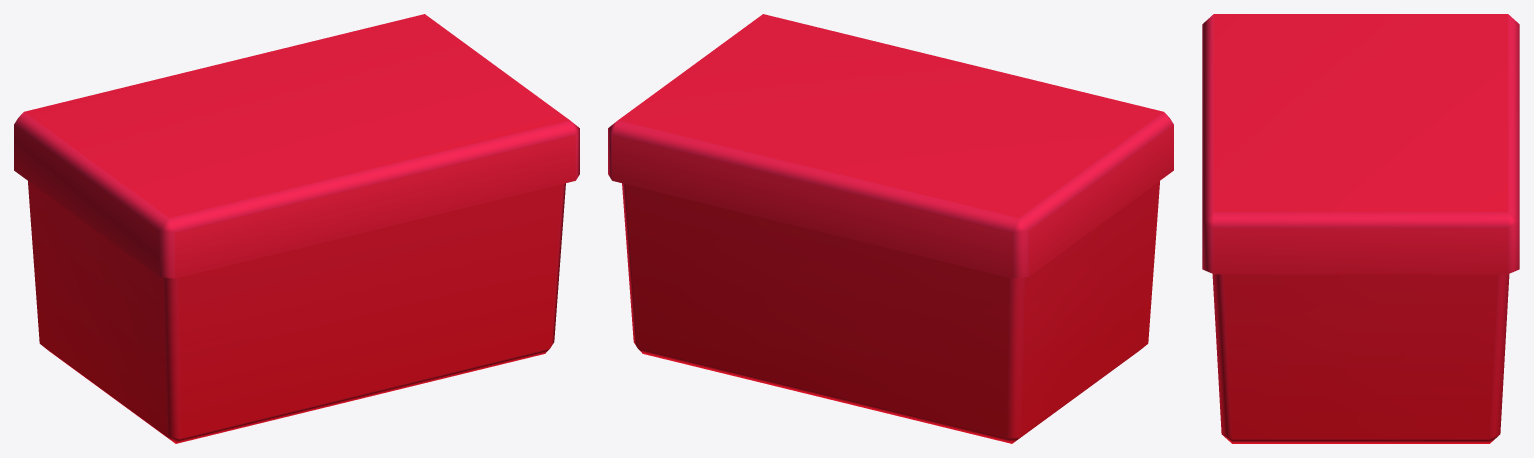
Rendered from giftbox_039.fbx.
The picture shows the model from 3 angles, left to right: view 1: azimuth 30°, elevation 25°; view 2: azimuth 150°, elevation 25°; view 3: azimuth 270°, elevation 25°; orthographic projection.
Visible parts, largest first — view 1: giftbox_039; view 2: giftbox_039; view 3: giftbox_039.
Part boxes in pixels (x1,y1,x2,y2): giftbox_039: (14, 14, 579, 443); giftbox_039: (608, 14, 1173, 443); giftbox_039: (1202, 14, 1519, 443).
Bounding box in the file's own units: 394 × 254 × 212.
